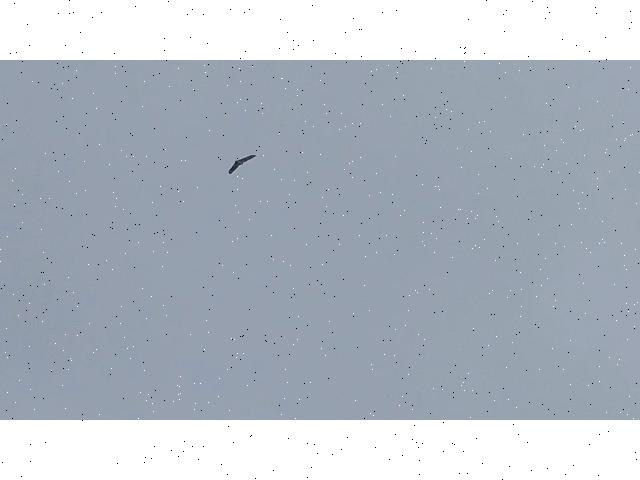Anti-Drone: (228, 153, 256, 175)
